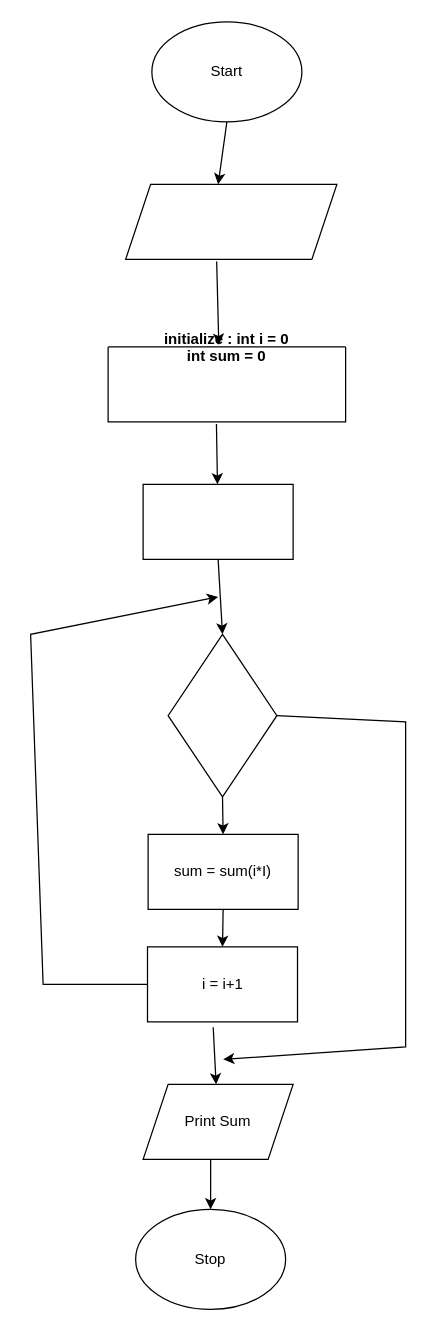
This 438x1331 diagram has some shape labels left out. Each missing label, with the box of its shape:
i<= num: (167, 633, 277, 797)
int i = 1: (142, 483, 293, 559)
Read in num,: (124, 183, 337, 259)
